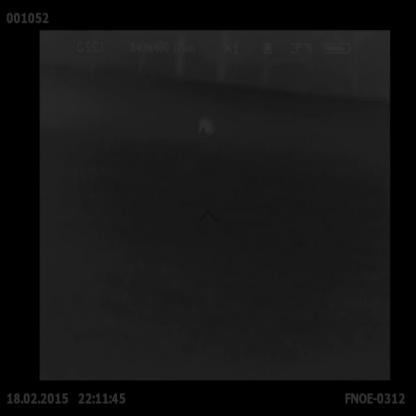rehkitze: (199, 113, 220, 135)
